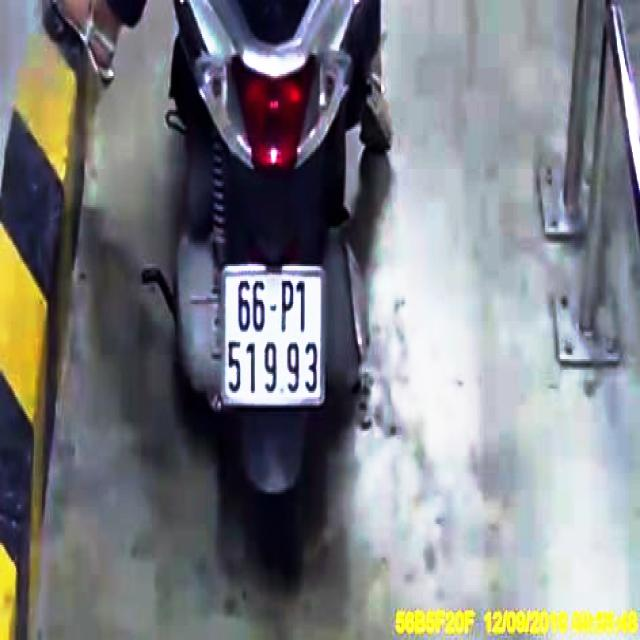license_plate: (223, 268, 326, 403)
